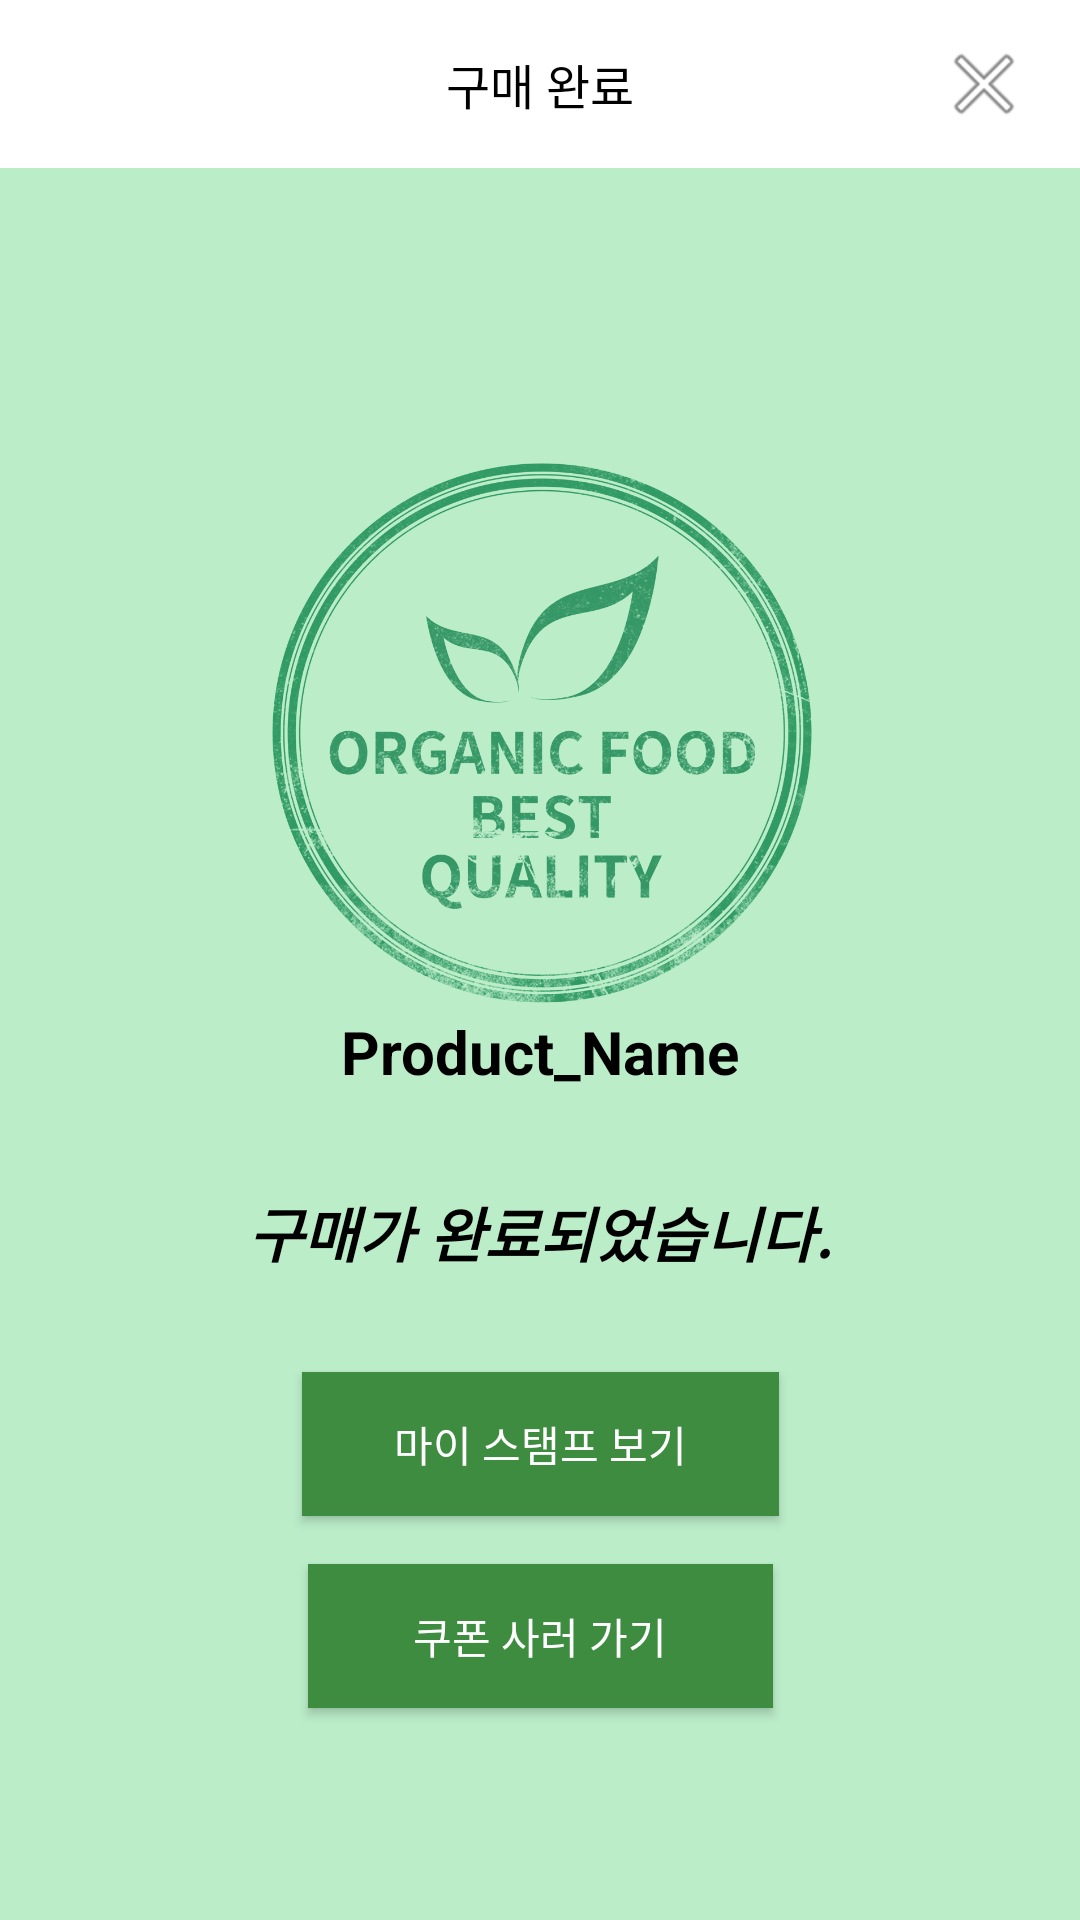

Where to tap for icons on this 1080 × 1920 app screen, as point (x, y):
close clear cancel: point (984, 84)
